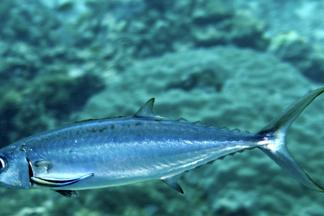Scombridae -Tunas-: (0, 78, 324, 201)
